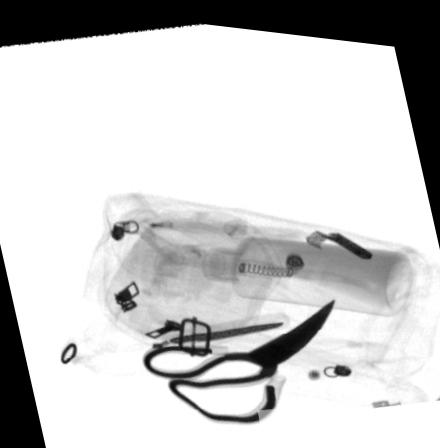Knife: (168, 315, 282, 339)
Scissors: (142, 292, 335, 419)
